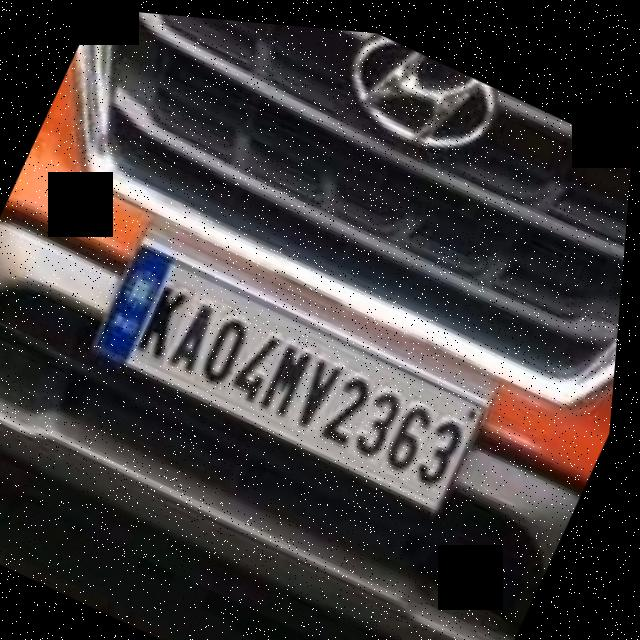0: (200, 301, 262, 388)
3: (354, 375, 416, 461), (417, 402, 477, 488)
4: (232, 318, 289, 404)
6: (386, 390, 446, 477)
A: (168, 285, 233, 379)
K: (135, 271, 201, 365)
M: (261, 327, 324, 420)
V: (292, 339, 357, 435)
